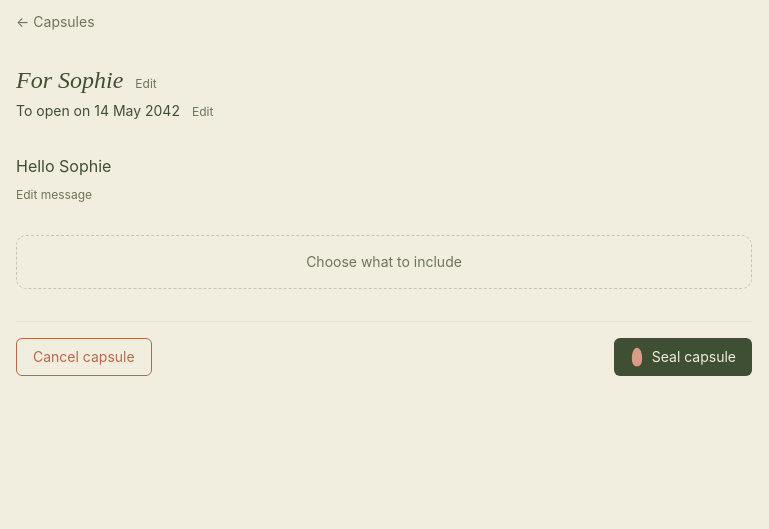
CapsuleDetailPage — inline edit message › cancels edit and restores original message
This screenshot has width=769, height=529.
Check: the text "Hello Sophie" is shown, box [16,156,111,176]
Click the button "Edit message": (54, 195) [16,187,92,203]
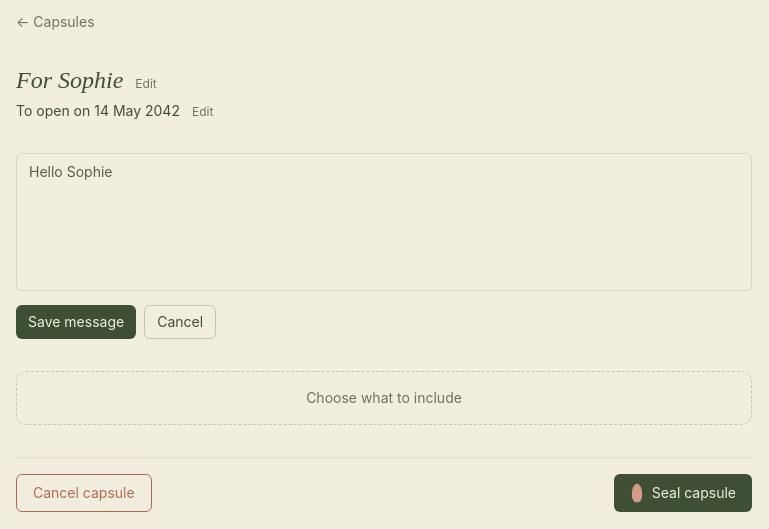
Replace the text in the text box with "Changed text": (384, 222) [16,153,752,291]
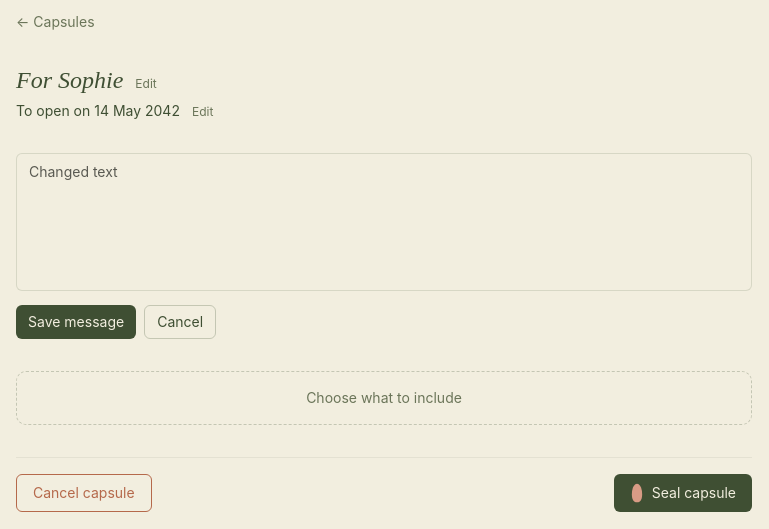
# Click the Cancel next to Save message (last Cancel before the action region)
Click the button "Cancel": (180, 322) [144,305,216,339]
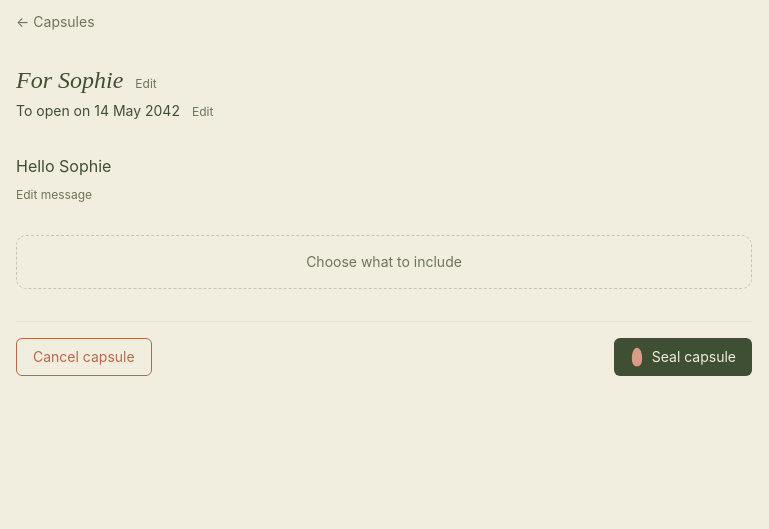
Check: the text "Hello Sophie" is shown, box [16,156,111,176]
